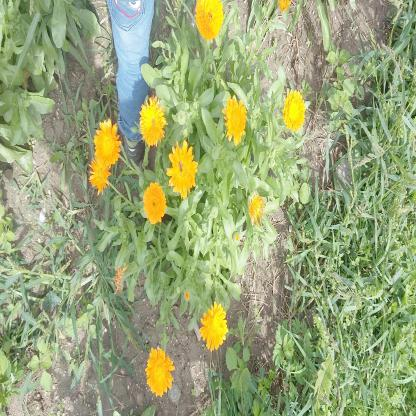marigold: (170, 145, 197, 196), (201, 303, 227, 351), (141, 99, 166, 147), (147, 349, 173, 395), (96, 119, 117, 165), (196, 3, 223, 38), (144, 184, 166, 224), (226, 98, 246, 142), (284, 92, 306, 128)
